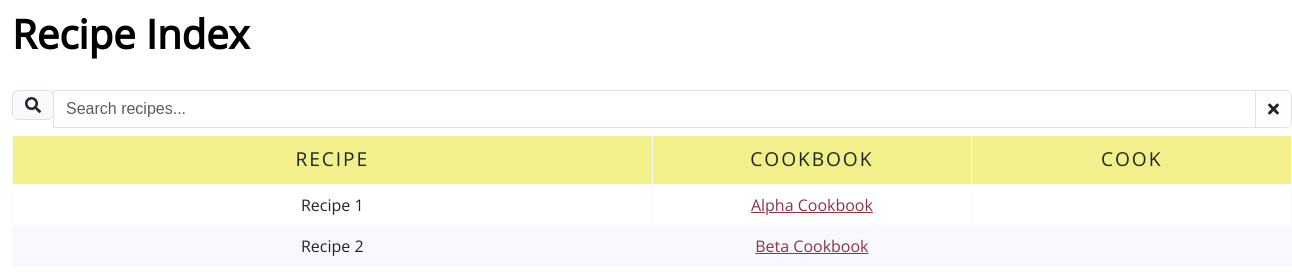
Test: Recipes › filters recipes via search input
Type "Alpha" into the field labelled "Search recipes" at (654, 109), box x1=53 y1=90 x2=1256 y2=128
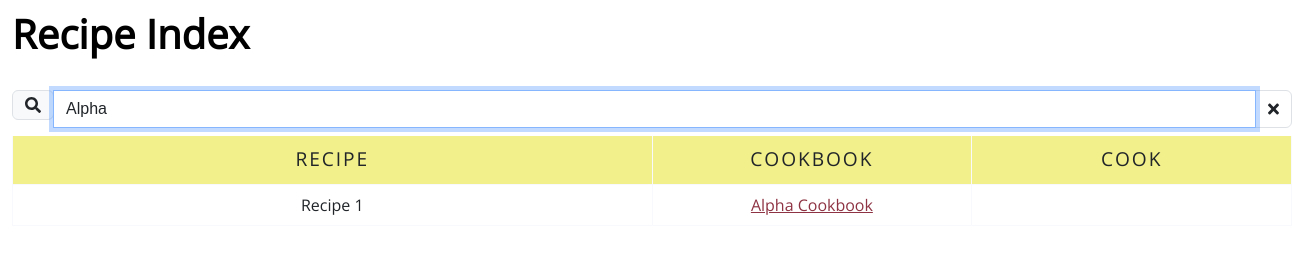
Check: the link "Alpha Cookbook" is shown, box x1=751 y1=194 x2=873 y2=216
Check: the link "Beta Cookbook" is gone
